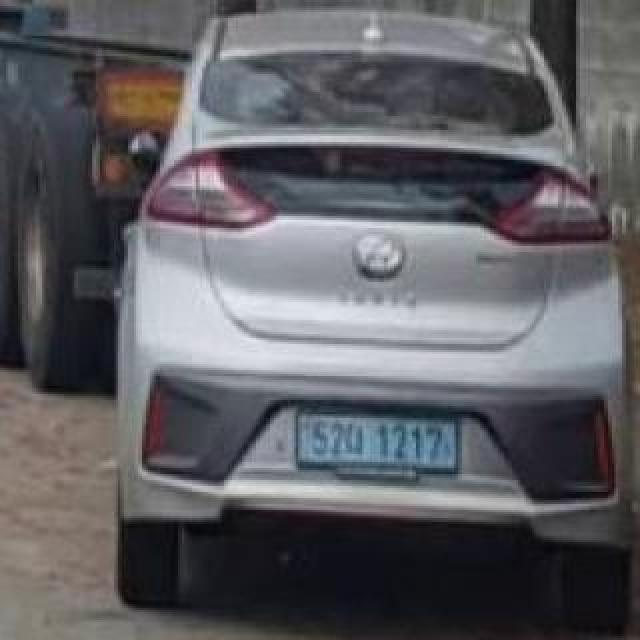EV_plate: (294, 405, 468, 489)
car: (112, 6, 640, 623)
